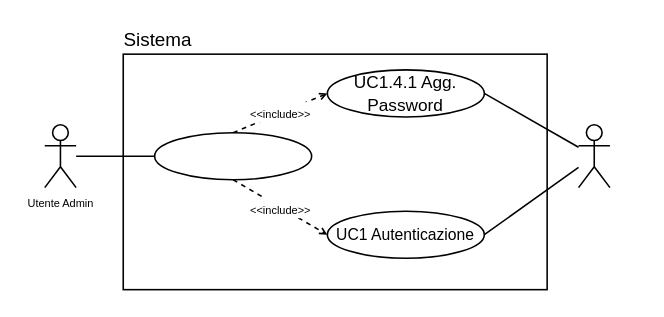
This 664x317 diagram has some shape labels left out. Here are the shapes that lost their labels. From the top down, the centre of each, then its label:
point 232,155: UC1.4 Reg. UPS
point 593,155: Utente Personale Sanitario
